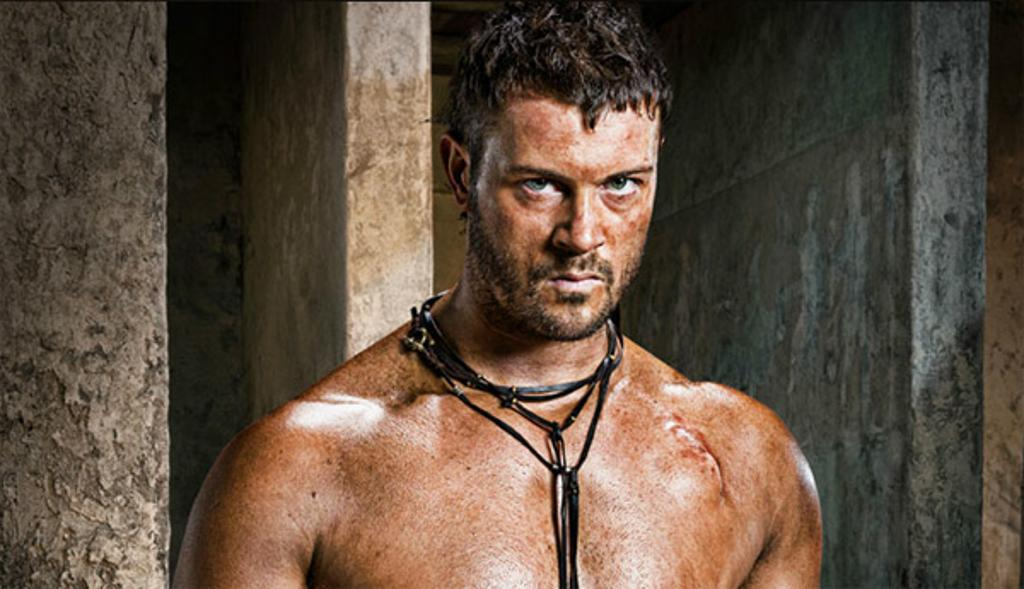face: (487, 93, 655, 329)
